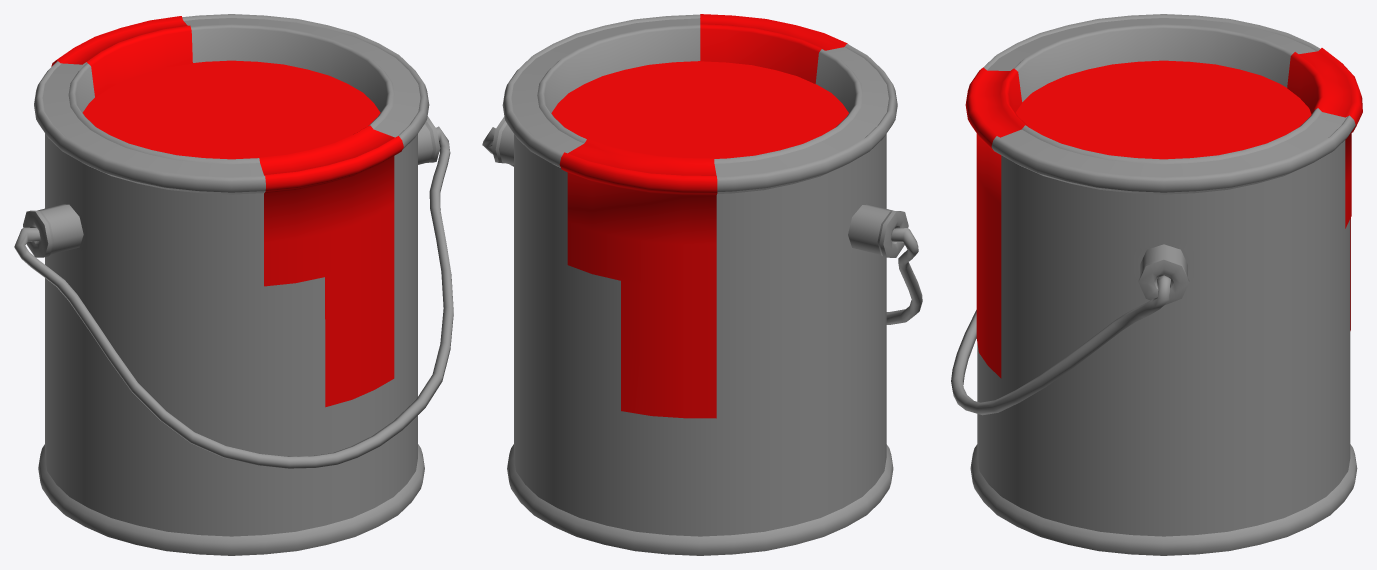
File: YQT.FBX
3 renders of one model, left to right at view 1: azimuth 30°, elevation 25°; view 2: azimuth 150°, elevation 25°; view 3: azimuth 270°, elevation 25°, orthographic.
Visible parts, largest first — view 1: YQT; view 2: YQT; view 3: YQT.
Part boxes in pixels (box(x1,y1,x2,y2)): YQT: box(14, 14, 453, 555); YQT: box(482, 14, 922, 555); YQT: box(951, 14, 1362, 555).
Bounding box in the file's own units: 14.5 × 12.25 × 11.91.
